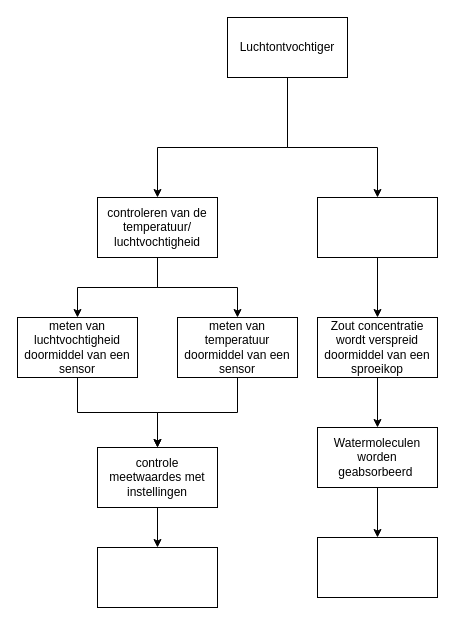
This 455x625 diagram has some shape labels left out. The shapes that lost their labels are listed below. From the top down, each one's centre as x and y in pixels, then its label:
At (377,227): "zoutconcentratie rondgepompt".
At (157,577): "Signalering ventilatoren".
At (377,567): "De gebruikte oplossing wordt afgevoerd".
